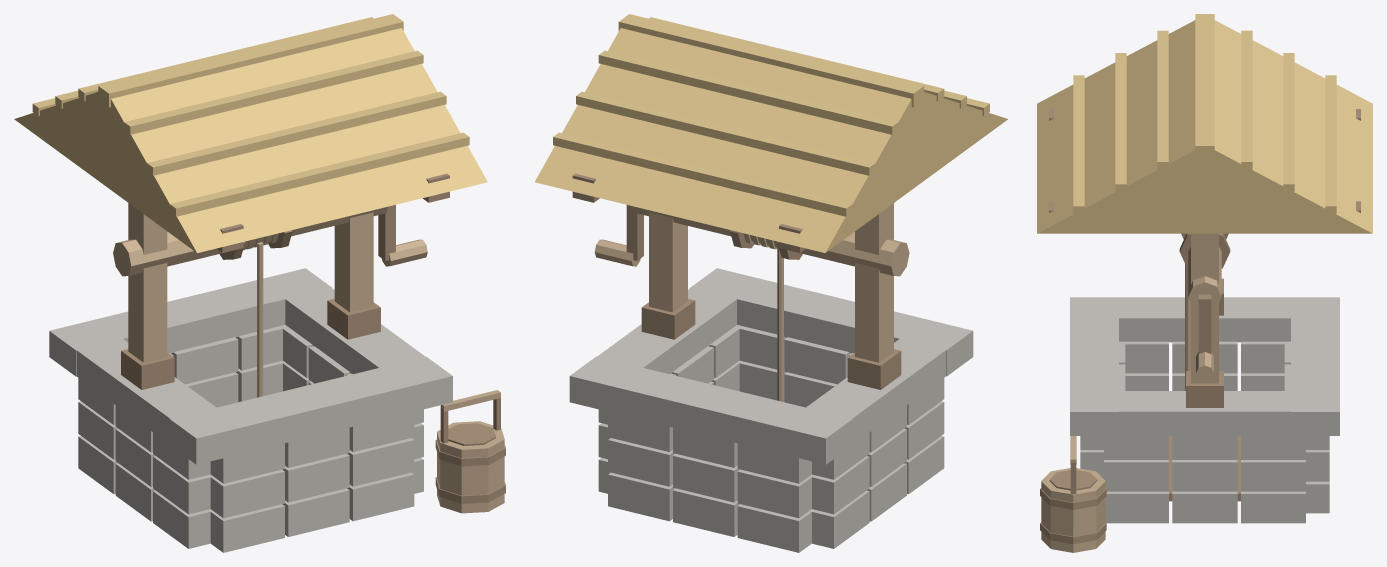
The model's file is well.glb.
The picture shows the model from 3 angles, left to right: view 1: azimuth 30°, elevation 25°; view 2: azimuth 150°, elevation 25°; view 3: azimuth 270°, elevation 25°; orthographic projection. The views are drawn at different scales.
Parts seen in each view (by area): view 1: well_stone, well_roof, well_wood, well_dark; view 2: well_stone, well_roof, well_wood, well_dark; view 3: well_roof, well_stone, well_wood, well_dark.
Boxes of the visible parts, x1,y1,x2,y2 form: well_stone: (49,268,452,552); well_roof: (14,14,487,253); well_wood: (113,203,504,513); well_dark: (121,173,505,503); well_stone: (569,268,973,552); well_roof: (535,14,1007,252); well_wood: (594,203,909,401); well_dark: (572,173,901,389); well_roof: (1037,14,1372,233); well_stone: (1070,297,1339,523); well_wood: (1041,233,1223,552); well_dark: (1040,109,1360,544).
Bounding box in the file's own units: 0.8243 × 1.03 × 0.8.
